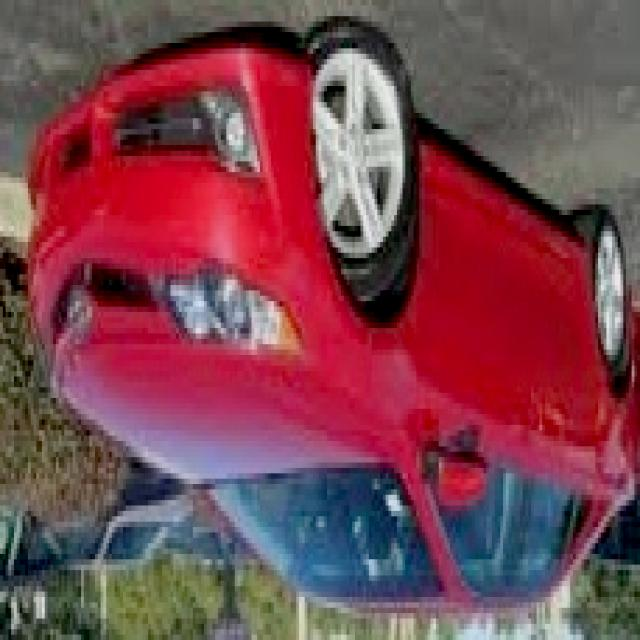red: (17, 53, 640, 634)
